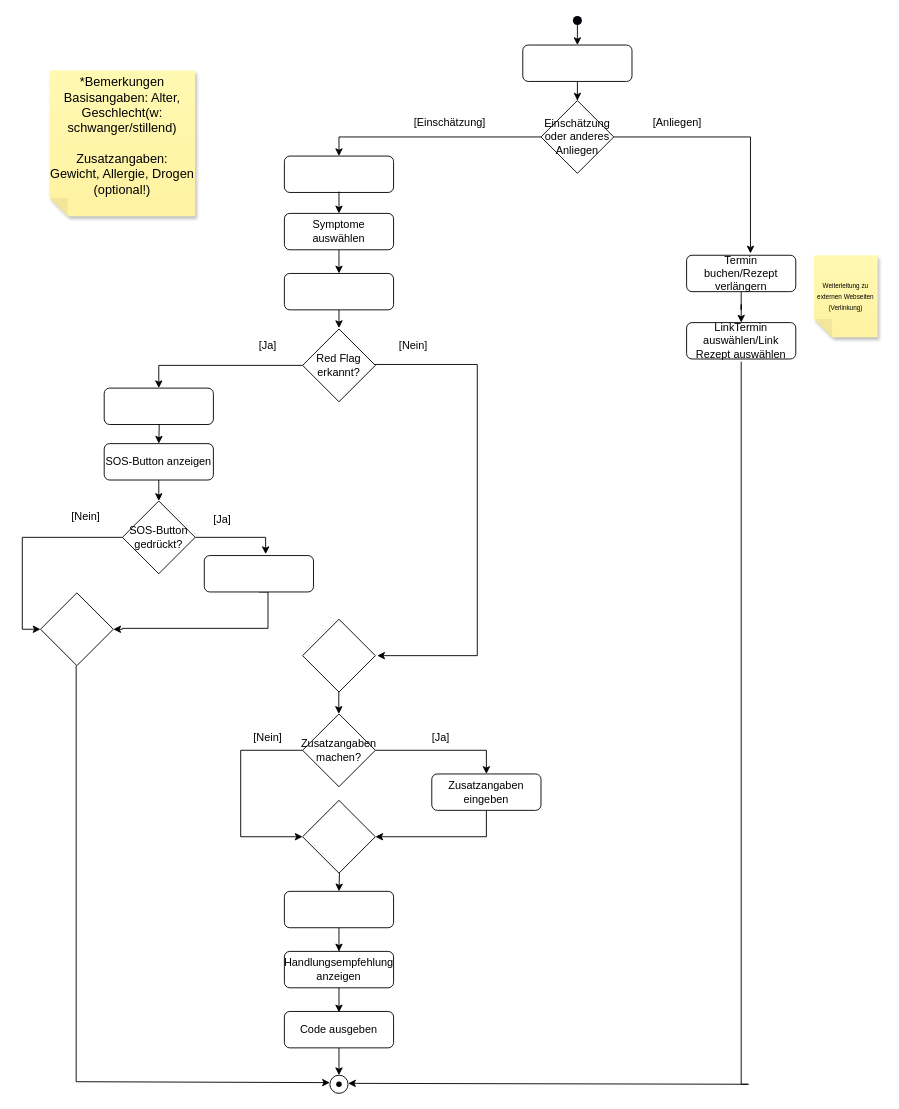
The diagram is 899 pixels wide and 1109 high, and some of its shapes have lost their labels. Each missing label, with the centre of its shape:
Auswertung durchführen: the point at 338,909
Basisangaben eingeben: the point at 338,173
Nachfragen beantworten: the point at 338,291
Notfallhinweis anzeigen: the point at 158,406
Notruf einleiten: the point at 258,573
Webseite öffnen: the point at 577,62
